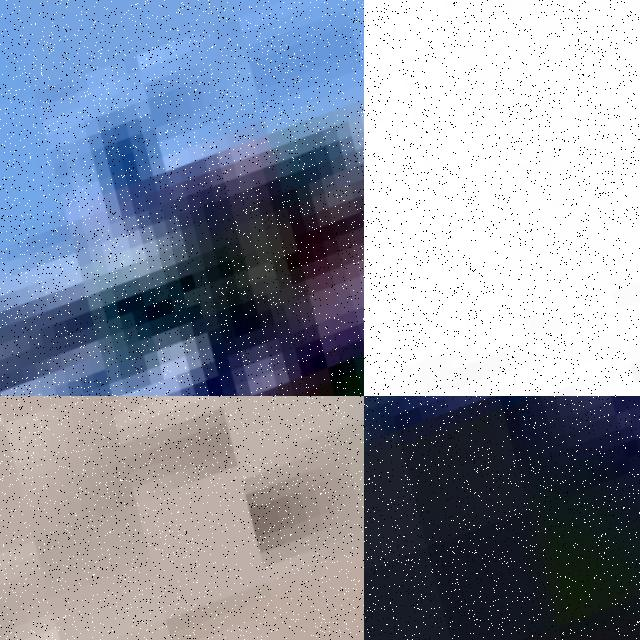drone: (0, 0, 364, 396), (364, 0, 640, 396), (0, 396, 364, 640), (364, 396, 640, 640)
